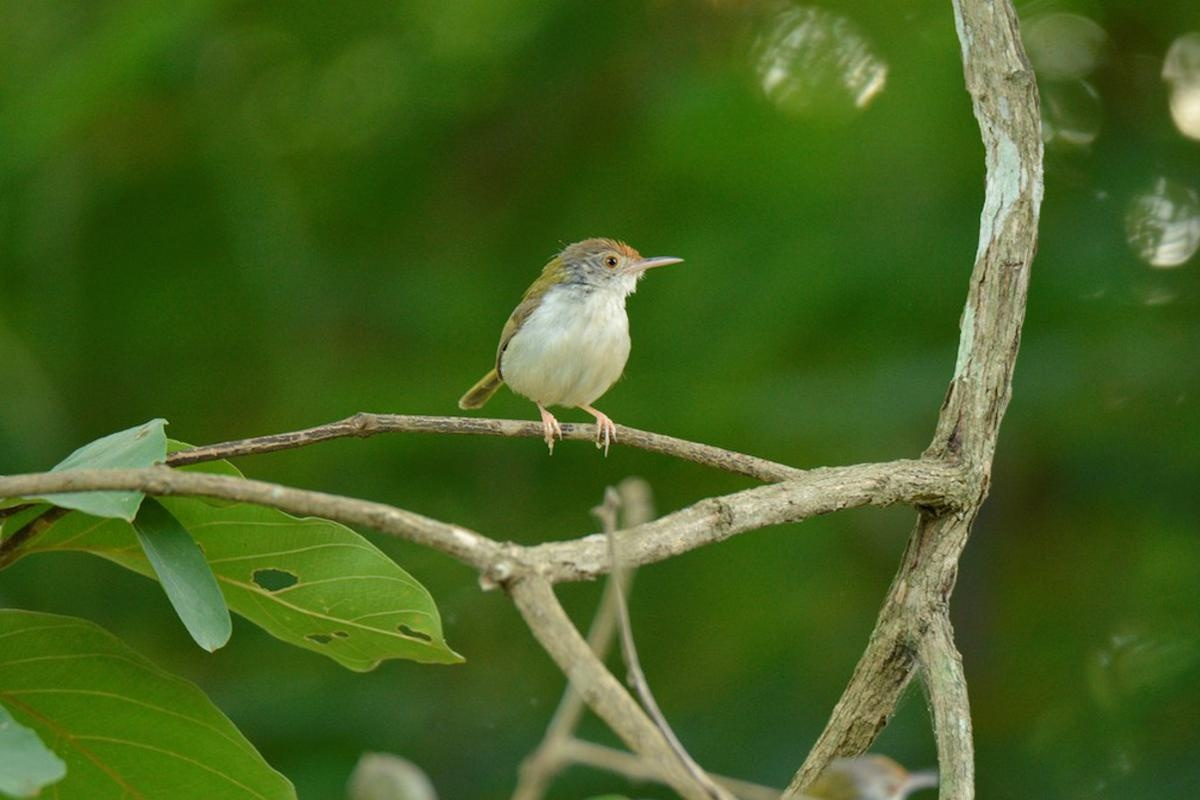tailorbird: (444, 196, 674, 433)
